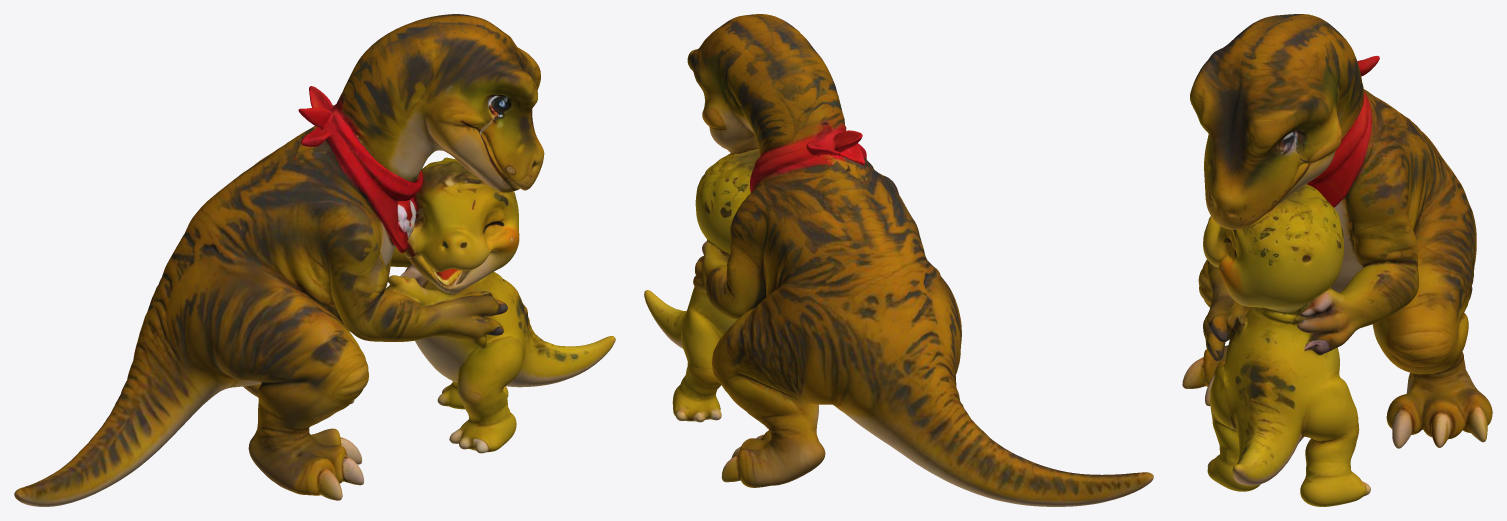
File: family_hug.glb
3 renders of one model, left to right at view 1: azimuth 30°, elevation 25°; view 2: azimuth 150°, elevation 25°; view 3: azimuth 270°, elevation 25°, orthographic. The views are drawn at different scales.
Parts seen in each view (by area): view 1: tripo_node_70ec2d4d-f43d-46ec-85aa-20303473a6f3; view 2: tripo_node_70ec2d4d-f43d-46ec-85aa-20303473a6f3; view 3: tripo_node_70ec2d4d-f43d-46ec-85aa-20303473a6f3.
Part boxes in pixels (x1,y1,x2,y2): tripo_node_70ec2d4d-f43d-46ec-85aa-20303473a6f3: (14, 14, 615, 506); tripo_node_70ec2d4d-f43d-46ec-85aa-20303473a6f3: (644, 14, 1153, 506); tripo_node_70ec2d4d-f43d-46ec-85aa-20303473a6f3: (1182, 14, 1492, 506).
Size of the model in its own units: 1 by 0.6889 by 0.4317.
Materials: 1 (1 with a texture image).
